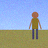person: (29, 12, 41, 39)
